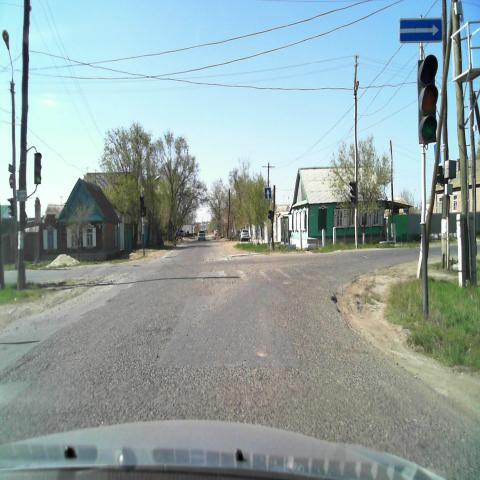5_7_1: (398, 15, 444, 43)
